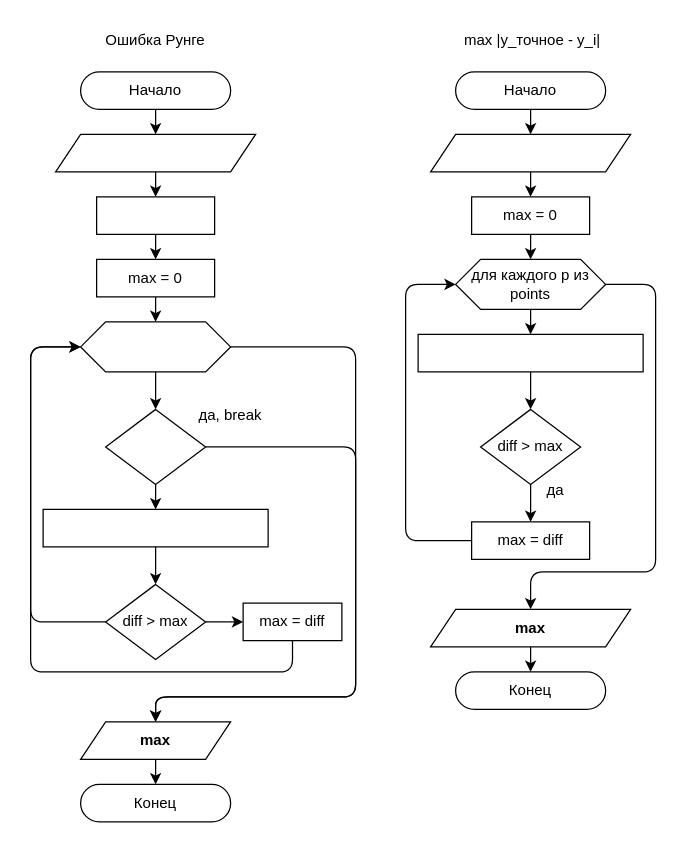
The diagram is 688 pixels wide and 844 high, and some of its shapes have lost their labels. The shapes that lost their labels are listed below. From the top down, each one's box as (x1, y1, x2, y2) in pixels, then its label:
(54, 133, 256, 172): one, half, p, n 1 , n 2
(429, 133, 631, 172): approx, eq, x 0 , y 0
(95, 196, 215, 234): denom = 2 p - 1
(79, 321, 231, 372): i от 0 до n 1 - 1
(417, 333, 643, 372): diff = |exact(eq, p x , x 0 , y 0 ) - p y |
(104, 408, 206, 484): 2 * i >= n 2
(42, 508, 268, 547): diff = |one i, y - half 2*i, y | / denom
